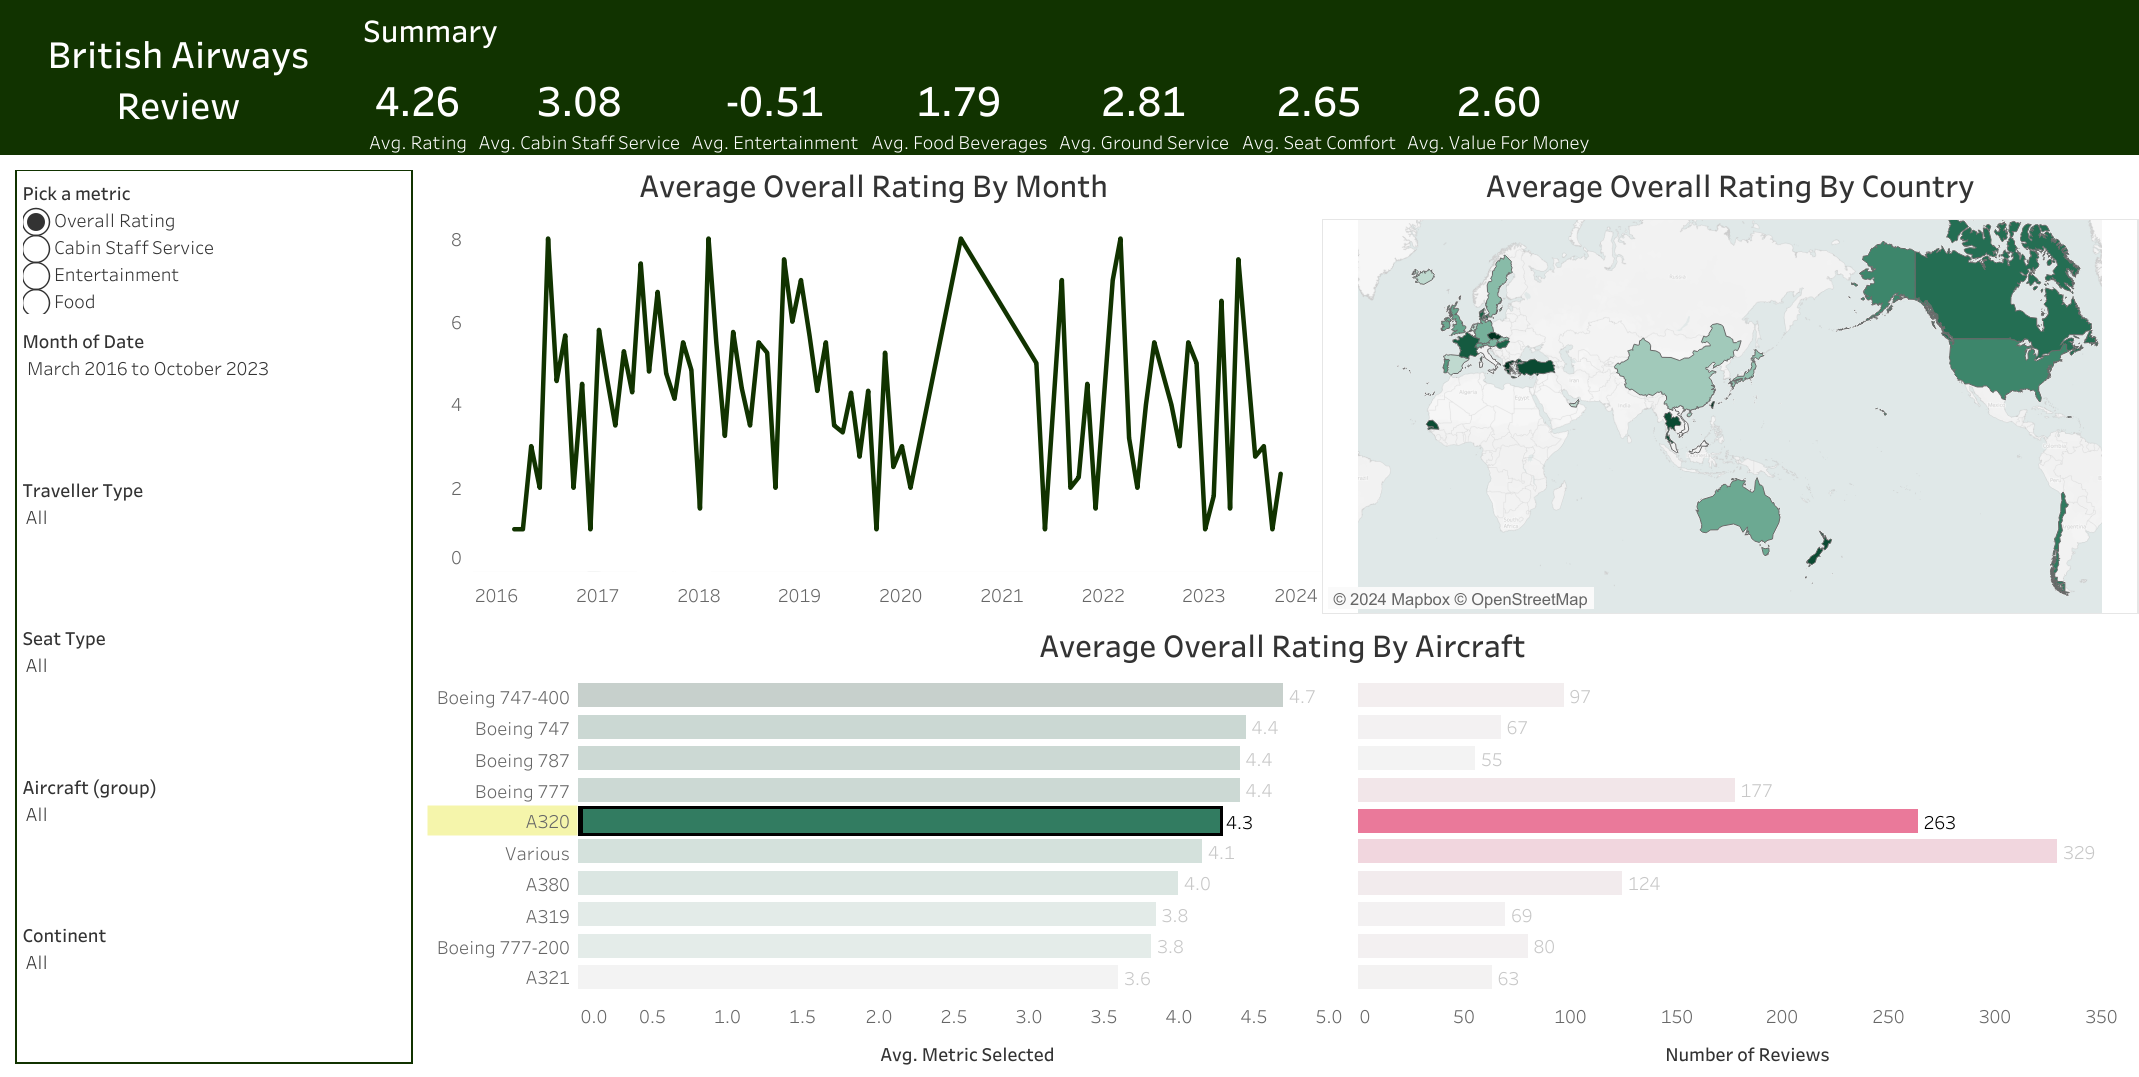

The page's visual inventory and layout, read from the dashboard file:
{"tool":"tableau","page":{"name":"Dashboard 1","canvas":[1000,1000],"units":"permille","ordinal":0},"visuals":[{"type":"text","box":[0,0,166.7,142.9]},{"type":"worksheet","title":"Month","mark":"Automatic","rows":["Calculation_788974365483778048"],"cols":["date"],"box":[200,143.1,416.5,427.6]},{"type":"worksheet","title":"Map","mark":"Automatic","box":[617.5,143.1,382,427.6]},{"type":"parameter","param":"[Parameters].[Parameter 1]","box":[5.5,152,189,139.8]},{"type":"filter","title":"Map","param":"[federated.0mmd7lx00l2vmv19g32mb086p0f3].[tmn:date:qk]","box":[5.5,291.9,189,139.8]},{"type":"filter","title":"Map","param":"[federated.0mmd7lx00l2vmv19g32mb086p0f3].[none:traveller_type:nk]","box":[5.5,431.7,189,139.8]},{"type":"worksheet","title":"Aircraft","mark":"Automatic","cols":["Calculation_788974365483778048","ba_reviews.csv_96D2F865030542A09E29C2B6DD43E8BE"],"box":[200,570.7,799.5,429.3]},{"type":"filter","title":"Map","param":"[federated.0mmd7lx00l2vmv19g32mb086p0f3].[none:seat_type:nk]","box":[5.5,571.5,189,139.8]},{"type":"filter","title":"Map","param":"[federated.0mmd7lx00l2vmv19g32mb086p0f3].[Aircraft (group)]","box":[5.5,711.4,189,139.8]},{"type":"filter","title":"Map","param":"[federated.0mmd7lx00l2vmv19g32mb086p0f3].[none:Continent:nk]","box":[5.5,851.2,189,139.8]}]}

Visuals, with their boxes on the dashboard's canvas, which has no fixed pixel size, in thousandths of its width and height (x1, y1, x2, y2). These are canvas units, not pixel positions in the 2139x1077 screenshot, which may show the page scaled, cropped or inside an application window:
text: 0 0 167 143
"Month" worksheet: 200 143 616 571
"Map" worksheet: 618 143 1000 571
parameter: 6 152 194 292
"Map" filter: 6 292 194 432
"Map" filter: 6 432 194 572
"Aircraft" worksheet: 200 571 1000 1000
"Map" filter: 6 572 194 711
"Map" filter: 6 711 194 851
"Map" filter: 6 851 194 991
